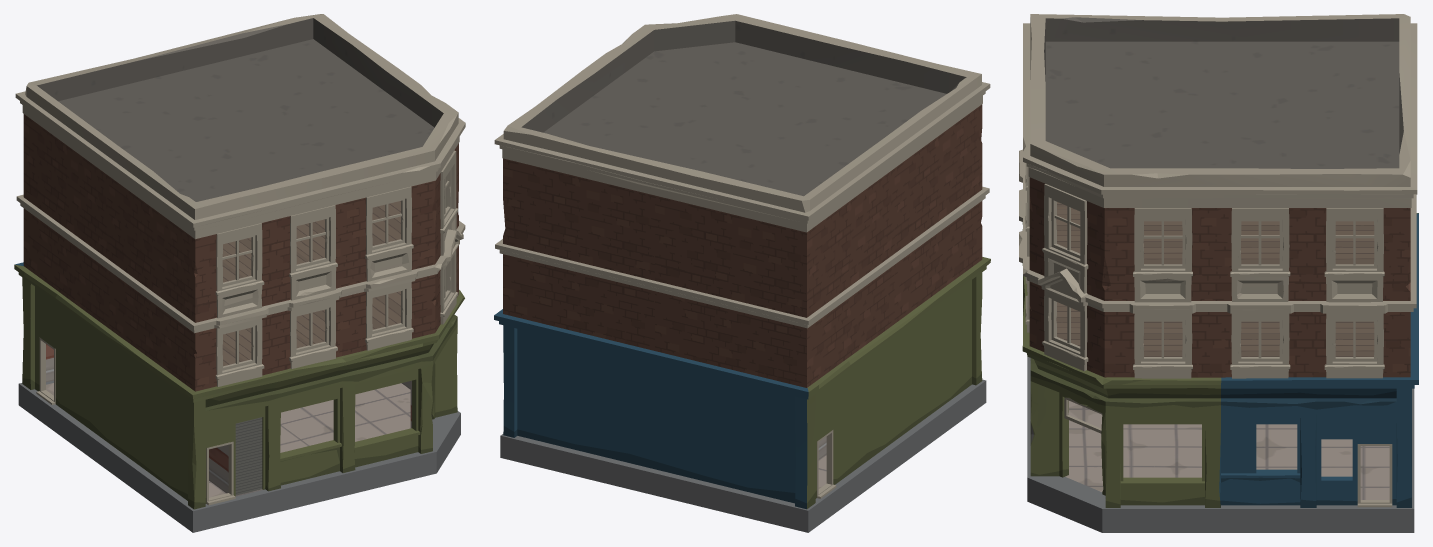
File: SM_Bld_Shop_Large_01.obj
3 renders of one model, left to right at view 1: azimuth 30°, elevation 25°; view 2: azimuth 150°, elevation 25°; view 3: azimuth 270°, elevation 25°, orthographic. The views are drawn at different scales.
Parts seen in each view (by area): view 1: SM_Bld_Shop_Large_01_0; view 2: SM_Bld_Shop_Large_01_0; view 3: SM_Bld_Shop_Large_01_0.
Part boxes in pixels (x1,y1,x2,y2): SM_Bld_Shop_Large_01_0: [14, 14, 465, 532]; SM_Bld_Shop_Large_01_0: [494, 14, 990, 532]; SM_Bld_Shop_Large_01_0: [1019, 14, 1418, 532].
Size of the model in its own units: 14.38 by 14.22 by 14.41.
Materials: 1 (1 with a texture image).
